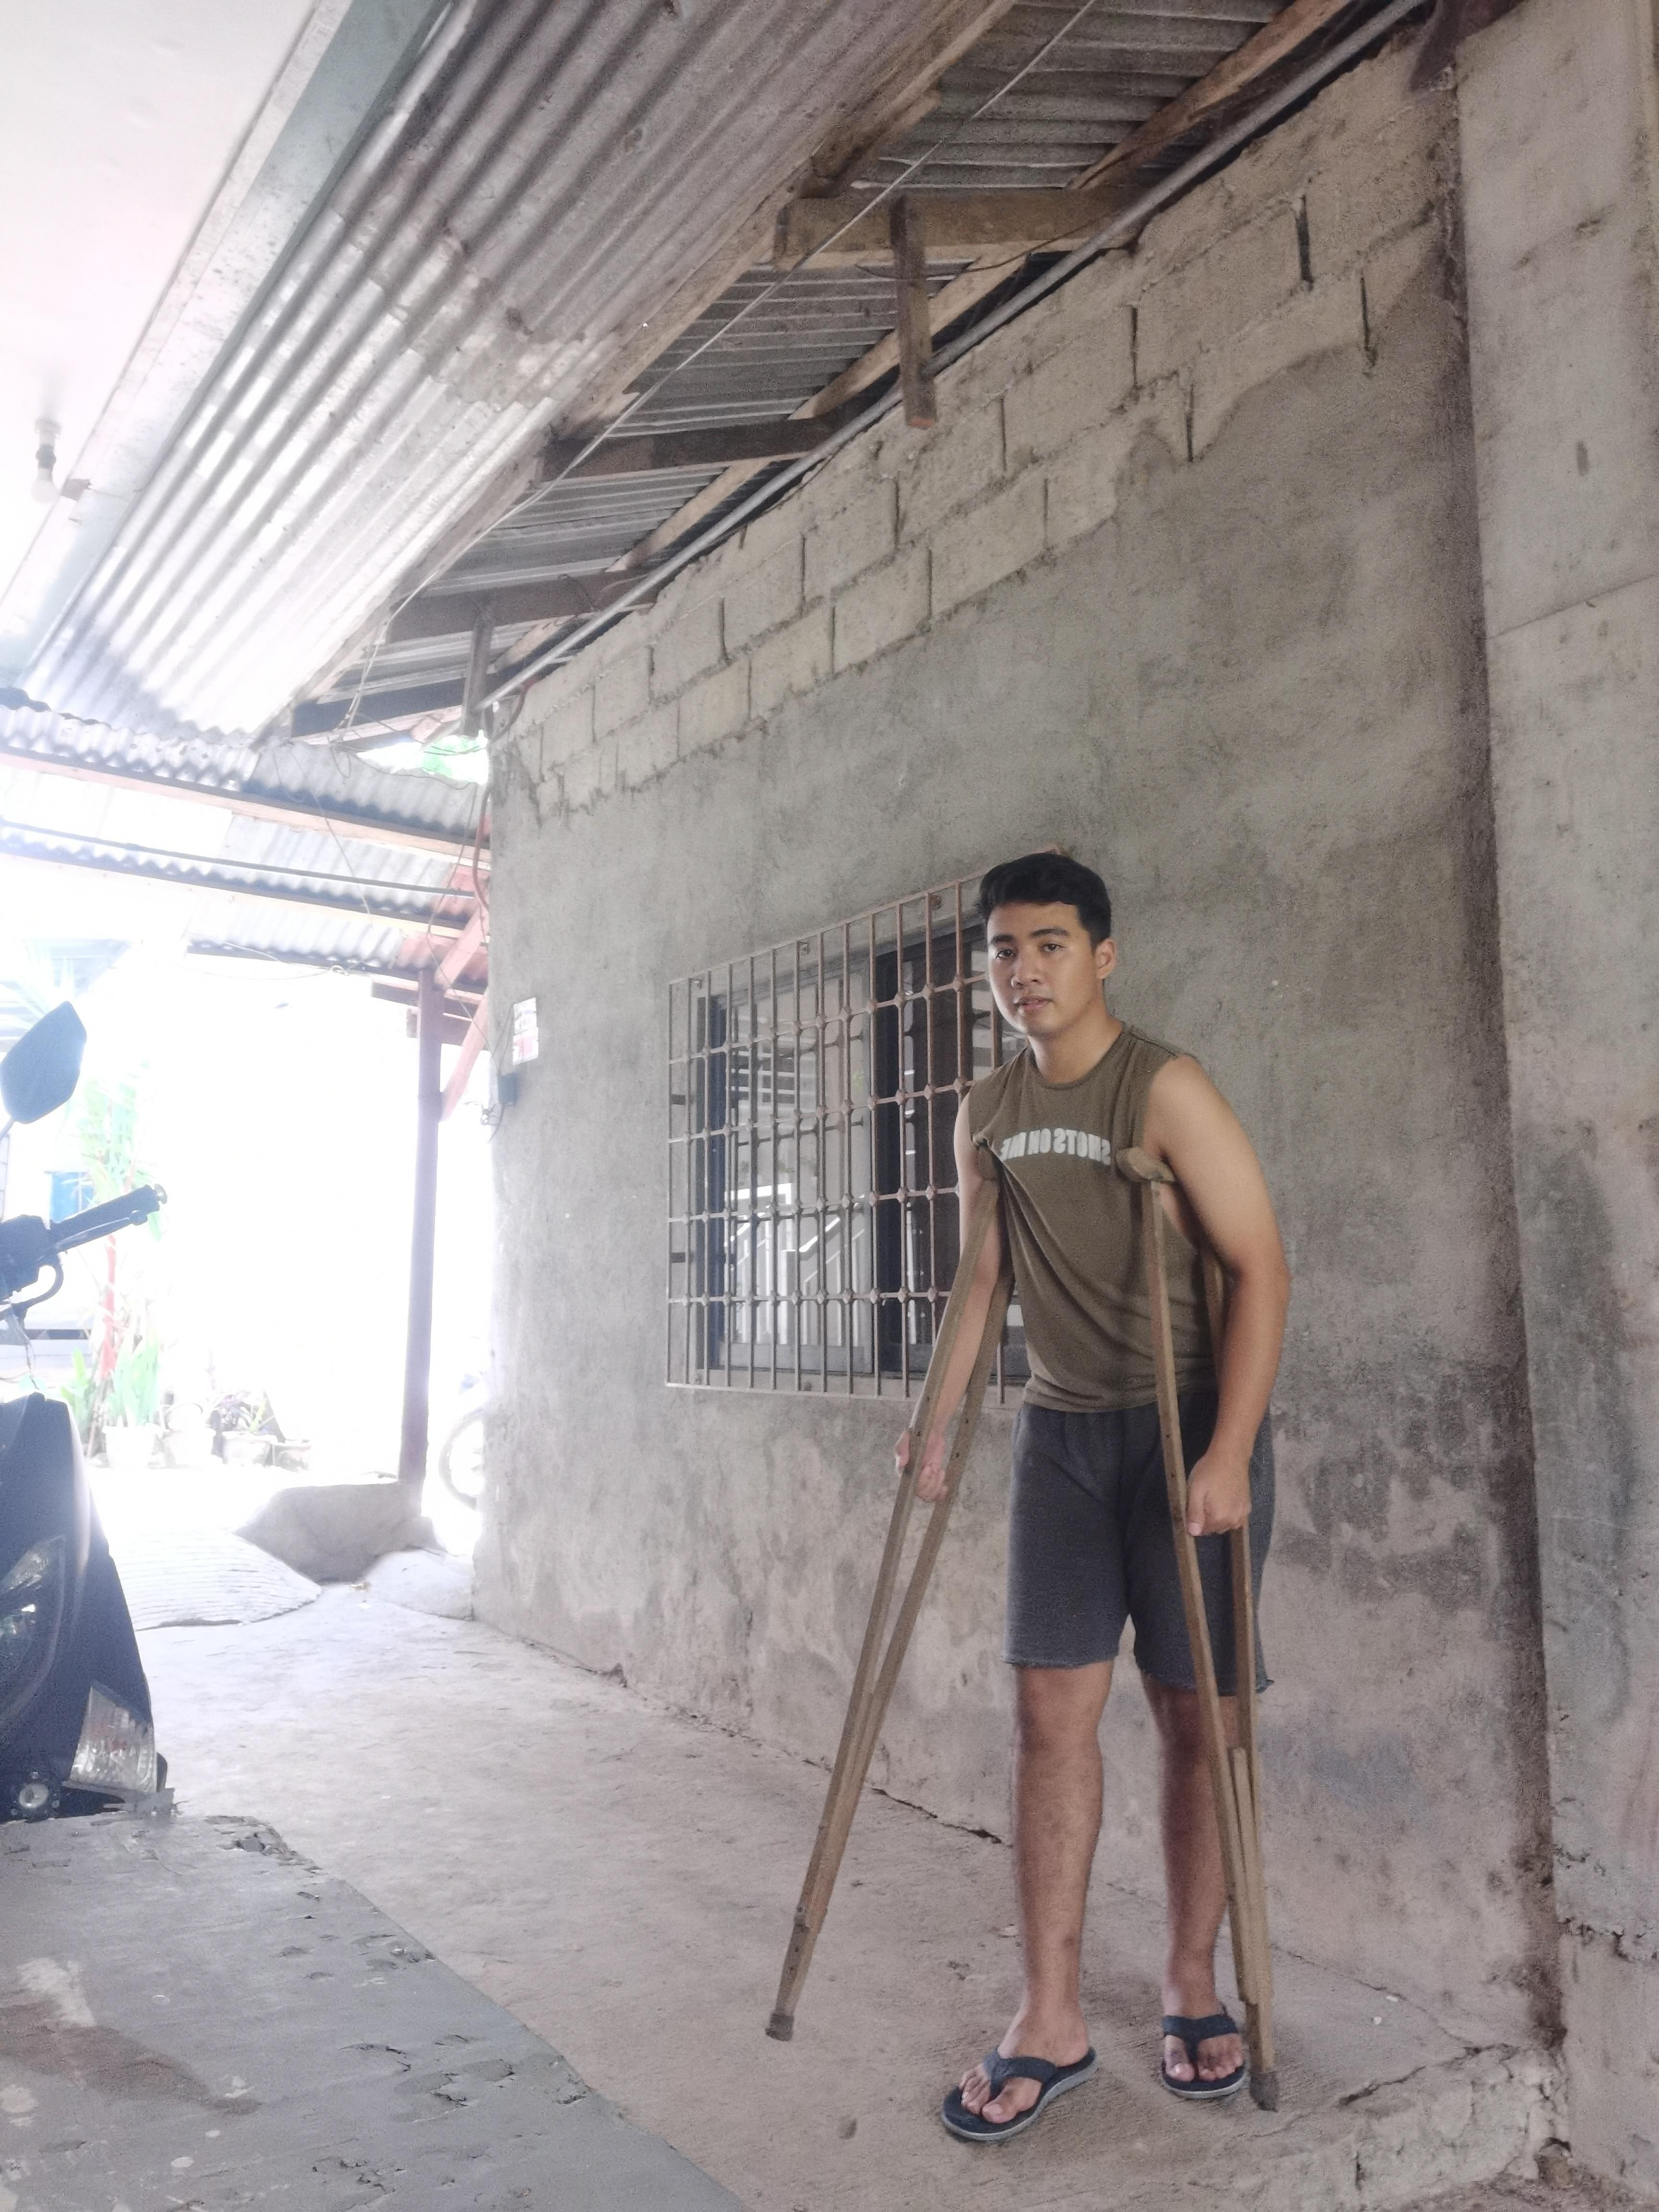crutches: (746, 836, 1309, 2155)
